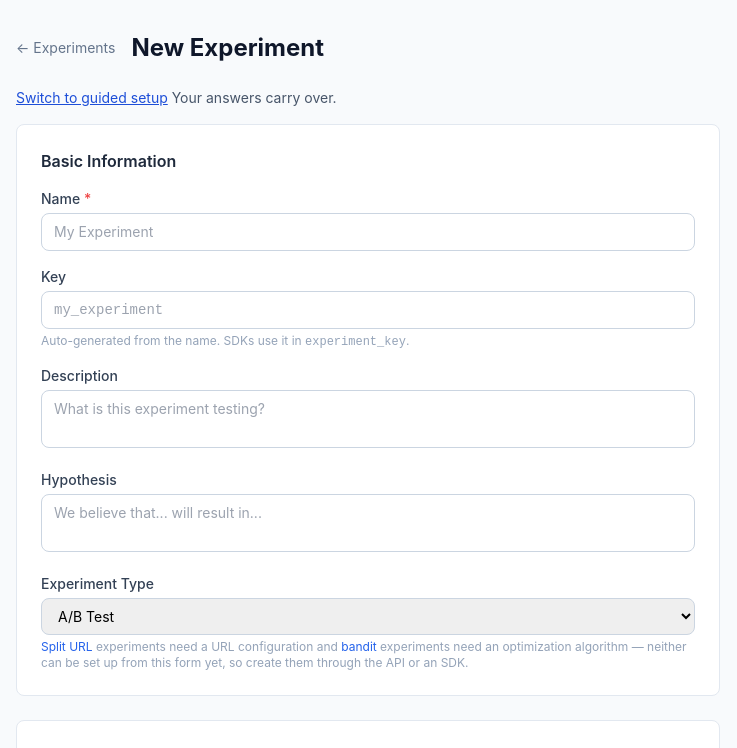
Scenario: NewExperimentPage › shows the backend validation detail when the API rejects the payload
The width and height of the screenshot is (737, 748).
Step 1. Type "Rejected" into the field with test id "experiment-name" → x=368, y=232, box [41, 213, 695, 251]
(page scrolled)
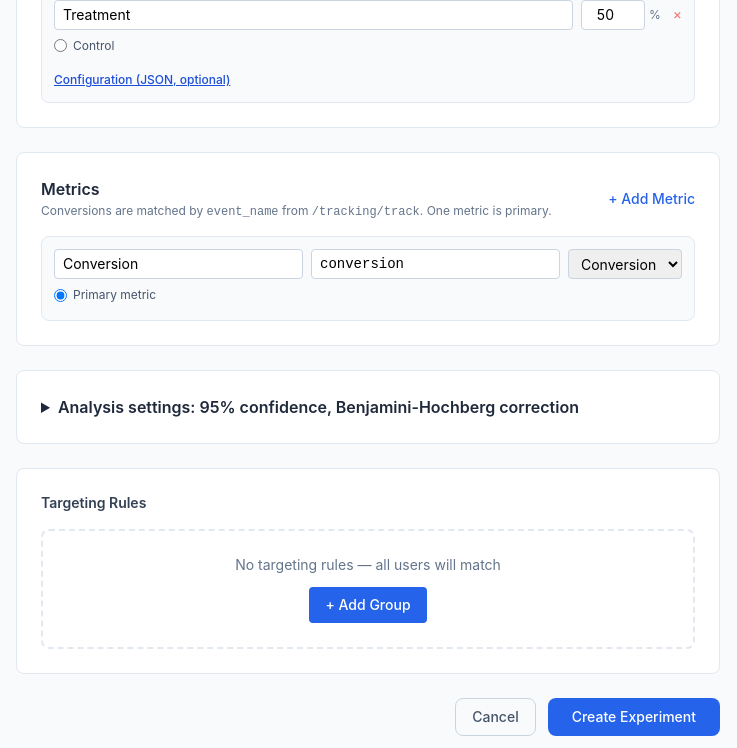
Step 2. Click the button with test id "submit-experiment" → x=634, y=716, box [548, 698, 720, 736]
(page scrolled)
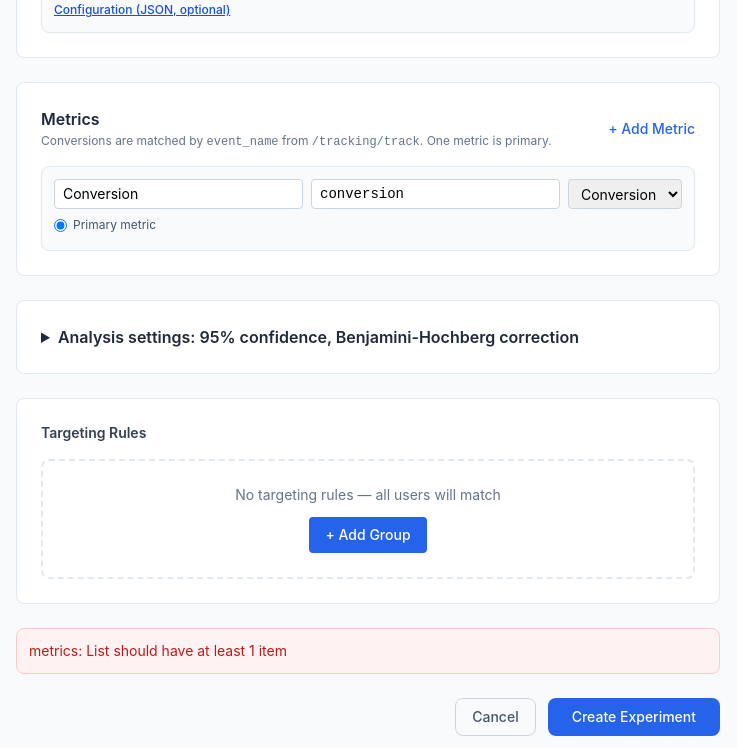
Check: the message with test id "form-error" reads "metrics: List should have at least 1 item", box [29, 642, 287, 658]
